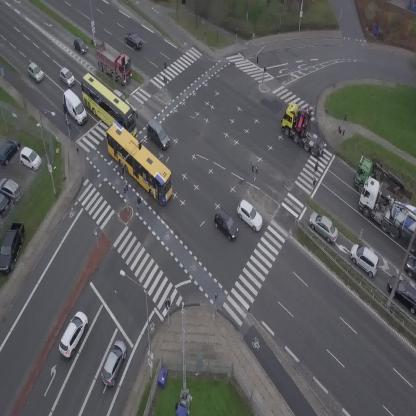bicycle: (135, 196, 141, 209)
bus: (95, 121, 184, 206), (69, 71, 147, 143)
car: (54, 308, 92, 359), (98, 338, 131, 389), (344, 240, 386, 279), (304, 209, 344, 246), (232, 198, 269, 233), (209, 208, 244, 242), (140, 118, 175, 151), (23, 61, 46, 85), (122, 30, 146, 52), (69, 35, 90, 58), (56, 66, 78, 87), (405, 256, 416, 279), (114, 89, 128, 100)
lorry: (273, 98, 340, 160), (86, 37, 141, 88), (55, 88, 93, 126)
